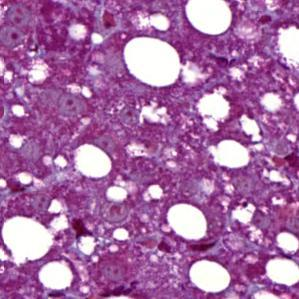steatosis: (120, 35, 185, 88), (164, 203, 215, 241), (184, 257, 233, 293), (73, 142, 112, 180), (261, 253, 299, 287)
